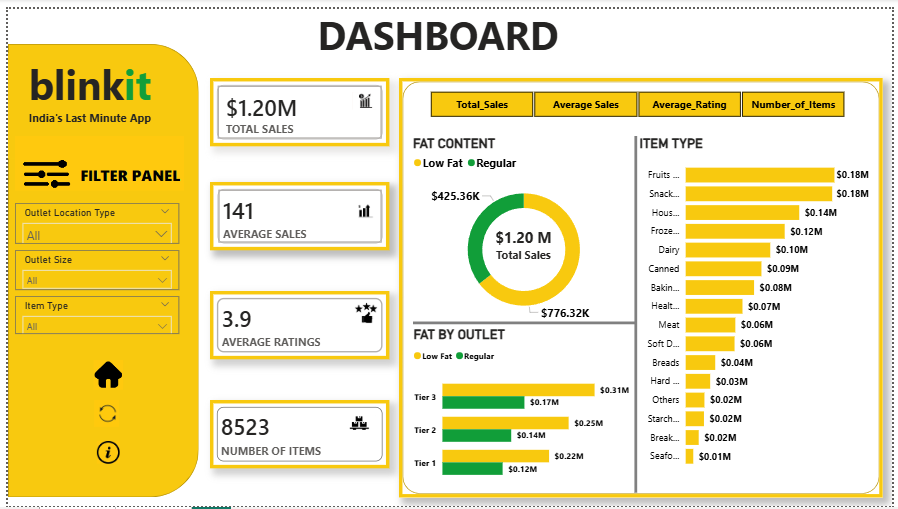

The dashboard page shown, as its layout file describes it:
{"tool":"powerbi","page":{"name":"Page 1","canvas":[1280,720],"ordinal":0},"visuals":[{"type":"cardVisual","fields":{"Data":["Measure.Total_Sales"]},"box":[292.3,99.4,260,99.4],"z":0},{"type":"cardVisual","fields":{"Data":["Measure.Average_Rating"]},"box":[292.3,409,260,99.4],"z":1000},{"type":"cardVisual","fields":{"Data":["Measure.Average Sales"]},"box":[292.3,250.6,260,99.4],"z":2000},{"type":"cardVisual","fields":{"Data":["Measure.Number_of_Items"]},"box":[292.3,567.4,260,99.4],"z":3000},{"type":"clusteredBarChart","title":"ITEM TYPE","fields":{"Category":["Blinkit Grocery Data.Item Type"],"Y":["Sum(Blinkit Grocery Data.Sales)"]},"box":[910.1,184.3,342.7,491],"z":4000},{"type":"clusteredBarChart","title":"FAT BY OUTLET","fields":{"Category":["Blinkit Grocery Data.Outlet Location Type"],"Y":["Sum(Blinkit Grocery Data.Sales)"],"Series":["Blinkit Grocery Data.Item Fat Content"]},"box":[583.2,460.8,325.4,240.5],"z":5000},{"type":"donutChart","title":"FAT CONTENT","fields":{"Category":["Blinkit Grocery Data.Item Fat Content"],"Y":["Measure.Total_Sales"]},"box":[587.5,184.3,321.1,275],"z":6000},{"type":"textbox","box":[394.6,0,457.9,80.6],"z":7000},{"type":"shape","box":[864,184.3,92.2,517],"z":8000},{"type":"shape","box":[587.5,430.6,322.6,49],"z":9000},{"type":"shape","box":[0,50.4,276.5,656.6],"z":10000},{"type":"textbox","box":[0,63.4,237.6,152.6],"z":11000},{"type":"image","box":[10.1,184.3,244.8,79.2],"z":12000},{"type":"slicer","fields":{"Values":["Blinkit Grocery Data.Outlet Location Type"]},"box":[10.1,280.8,237.6,59],"z":13000},{"type":"slicer","fields":{"Values":["Blinkit Grocery Data.Outlet Size"]},"box":[10.1,349.9,237.6,57.6],"z":14000},{"type":"slicer","fields":{"Values":["Blinkit Grocery Data.Item Type"]},"box":[10.1,416.2,237.6,54.7],"z":15000},{"type":"image","box":[116.6,508.3,59,43.2],"z":16000},{"type":"image","box":[119.5,567.4,47.5,38.9],"z":17000},{"type":"image","box":[119.5,626.4,53.3,33.1],"z":18000},{"type":"shape","box":[567.4,99.4,701.3,607.7],"z":19000},{"type":"textbox","box":[699.8,311,93.6,67.7],"z":20000},{"type":"slicer","fields":{"Values":["Parameter.Parameter"]},"box":[587.5,113.8,649.4,50.4],"z":21000}]}

Visuals, with their boxes in screenshot pixels (x1, y1, x2, y2), scaled from the page's 1280x720 canvas onto the 898x509 screenshot:
cardVisual - Measure.Total_Sales: (x1=205, y1=70, x2=387, y2=141)
cardVisual - Measure.Average_Rating: (x1=205, y1=289, x2=387, y2=359)
cardVisual - Measure.Average Sales: (x1=205, y1=177, x2=387, y2=247)
cardVisual - Measure.Number_of_Items: (x1=205, y1=401, x2=387, y2=471)
"ITEM TYPE" clusteredBarChart: (x1=638, y1=130, x2=879, y2=477)
"FAT BY OUTLET" clusteredBarChart: (x1=409, y1=326, x2=637, y2=496)
"FAT CONTENT" donutChart: (x1=412, y1=130, x2=637, y2=325)
textbox: (x1=277, y1=0, x2=598, y2=57)
shape: (x1=606, y1=130, x2=671, y2=496)
shape: (x1=412, y1=304, x2=638, y2=339)
shape: (x1=0, y1=36, x2=194, y2=500)
textbox: (x1=0, y1=45, x2=167, y2=153)
image: (x1=7, y1=130, x2=179, y2=186)
slicer - Blinkit Grocery Data.Outlet Location Type: (x1=7, y1=199, x2=174, y2=240)
slicer - Blinkit Grocery Data.Outlet Size: (x1=7, y1=247, x2=174, y2=288)
slicer - Blinkit Grocery Data.Item Type: (x1=7, y1=294, x2=174, y2=333)
image: (x1=82, y1=359, x2=123, y2=390)
image: (x1=84, y1=401, x2=117, y2=429)
image: (x1=84, y1=443, x2=121, y2=466)
shape: (x1=398, y1=70, x2=890, y2=500)
textbox: (x1=491, y1=220, x2=557, y2=268)
slicer - Parameter.Parameter: (x1=412, y1=80, x2=868, y2=116)
